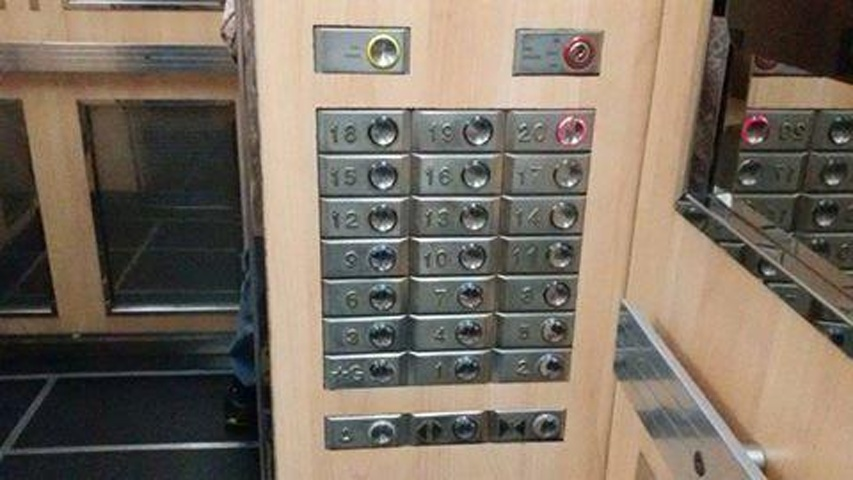1: (406, 348, 496, 387)
10: (408, 235, 502, 278)
11: (499, 233, 583, 277)
12: (317, 194, 412, 240)
13: (410, 194, 503, 239)
14: (499, 193, 589, 237)
15: (315, 152, 413, 199)
16: (410, 150, 506, 198)
17: (502, 150, 592, 198)
18: (315, 107, 412, 155)
19: (411, 106, 507, 156)
2: (493, 347, 573, 384)
20: (503, 106, 597, 154)
3: (319, 315, 410, 356)
4: (408, 312, 497, 353)
5: (496, 311, 576, 351)
6: (319, 276, 411, 317)
7: (408, 273, 498, 315)
8: (496, 273, 579, 314)
9: (319, 237, 412, 279)
alarm: (321, 411, 408, 451)
bt_keyhole: (511, 26, 605, 79)
close: (491, 407, 567, 447)
open: (407, 409, 491, 448)
sG: (321, 351, 409, 391)
text_blur: (309, 22, 412, 78)
unknown: (735, 108, 815, 151), (729, 153, 809, 194)
